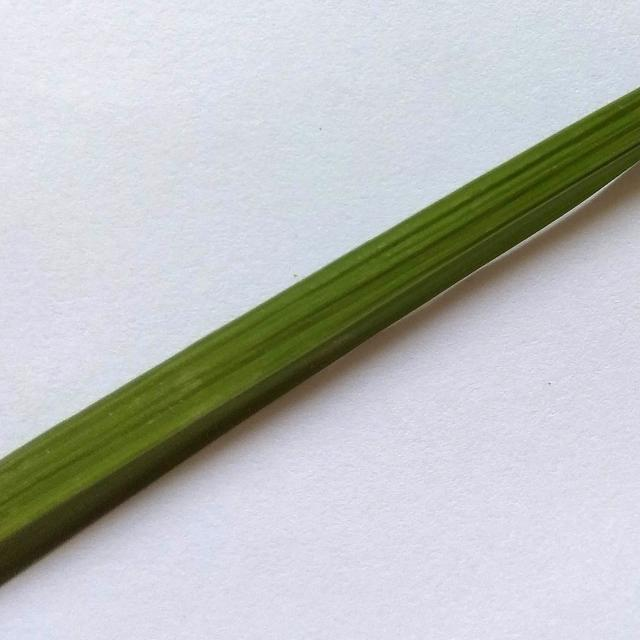Rice_Healthy: (0, 88, 640, 582)
